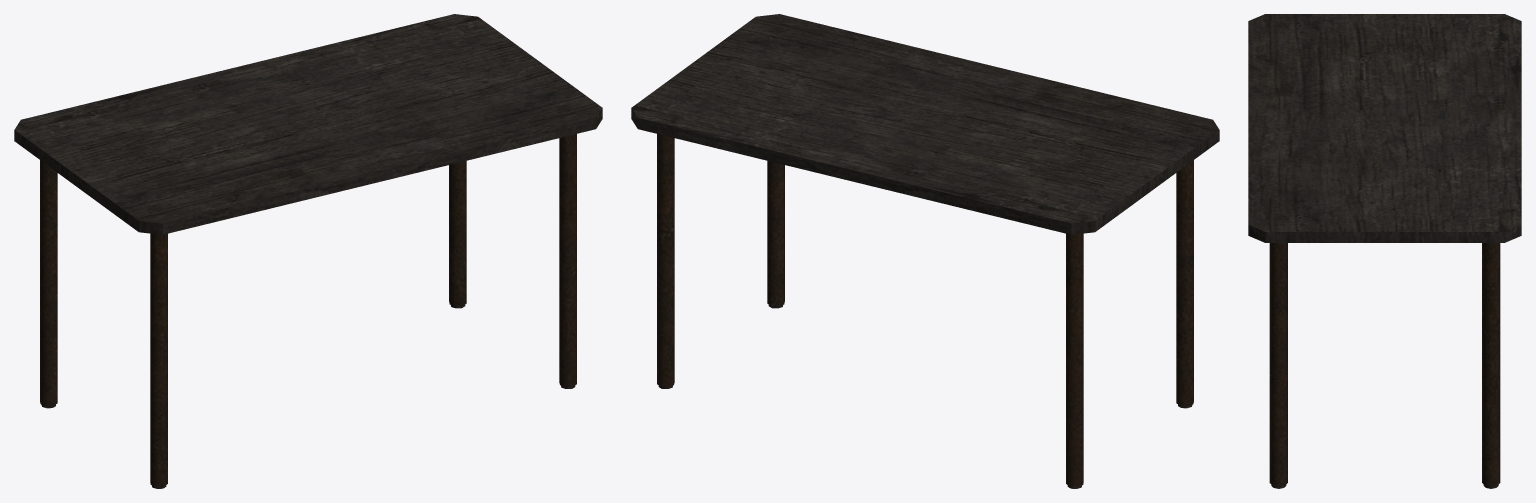
The model's file is table_large_1.fbx.
3 renders of one model, left to right at view 1: azimuth 30°, elevation 25°; view 2: azimuth 150°, elevation 25°; view 3: azimuth 270°, elevation 25°, orthographic. The views are drawn at different scales.
Parts seen in each view (by area): view 1: table_large_1; view 2: table_large_1; view 3: table_large_1.
Part boxes in pixels (x1=…): table_large_1: x1=14, y1=14, x2=602, y2=488; table_large_1: x1=631, y1=14, x2=1219, y2=488; table_large_1: x1=1248, y1=14, x2=1521, y2=488.
Bounding box in the file's own units: 1.7 × 0.9 × 0.97.
